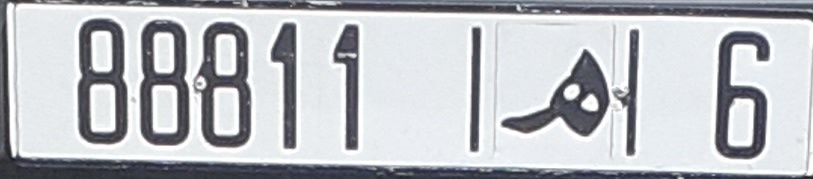1: (265, 19, 307, 150), (330, 22, 364, 153)
6: (709, 27, 774, 162)
8: (196, 16, 255, 148), (73, 13, 131, 147), (137, 15, 193, 147)
h: (499, 41, 612, 146)
